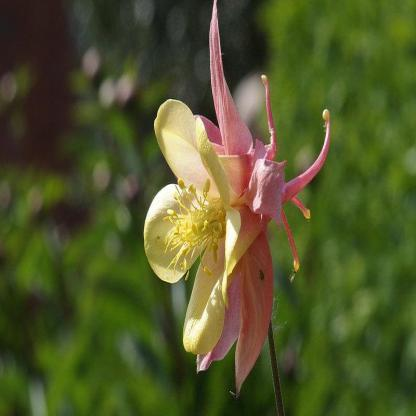aphid: (229, 381, 240, 408), (257, 262, 268, 286), (287, 266, 298, 285)
